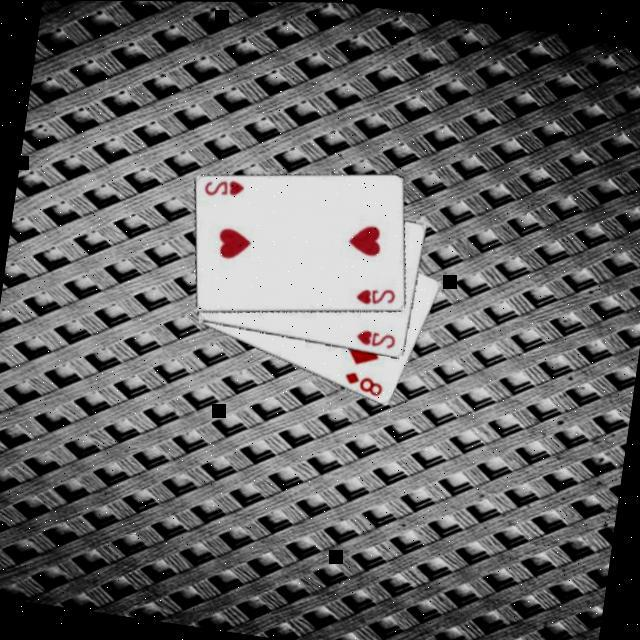2H: (351, 281, 398, 310), (199, 172, 246, 201), (351, 324, 398, 350)
8D: (339, 366, 386, 398)
